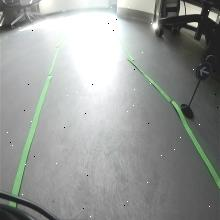left: (196, 60, 212, 83)
